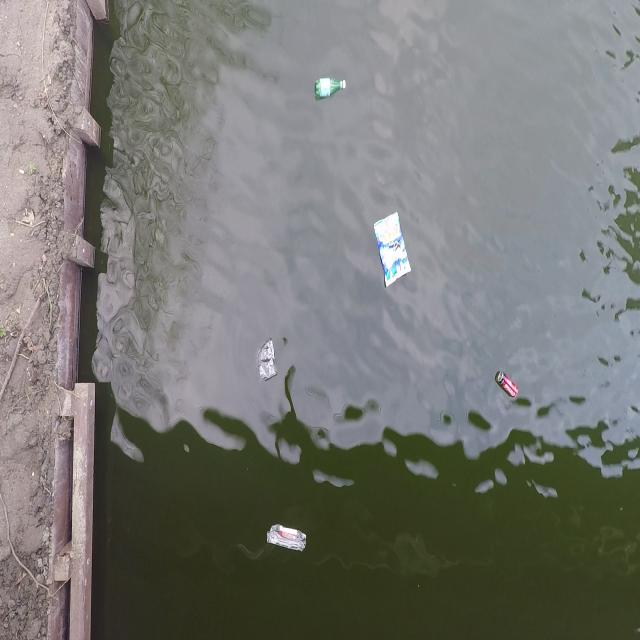Autre plastique: (369, 205, 413, 288)
Bouteille plastique: (310, 71, 349, 105)
Non plastique: (492, 362, 522, 404)
Sac plastique: (253, 331, 282, 390)
